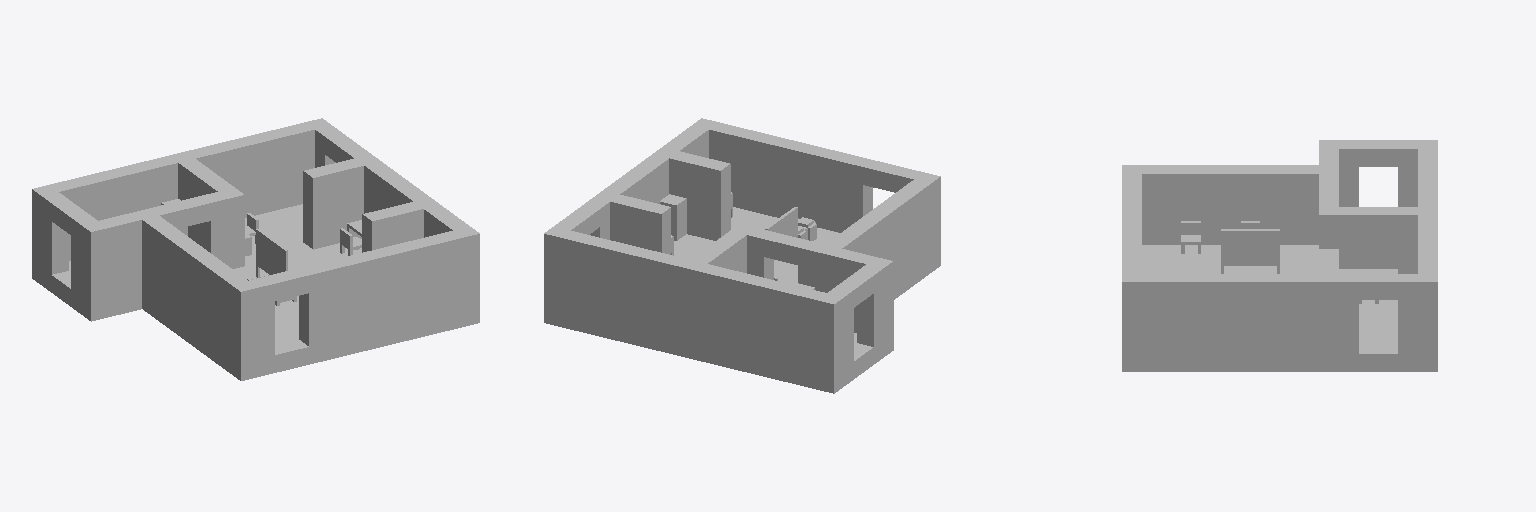
Rendered from new_small_nathan.obj.
3 views of the same model, side by side, from view 1: azimuth 30°, elevation 25°; view 2: azimuth 150°, elevation 25°; view 3: azimuth 270°, elevation 25° (orthographic).
Visible parts, largest first — view 1: object 1; view 2: object 1; view 3: object 1.
Part boxes in pixels (x1,y1,x2,y2): object 1: (32, 118, 479, 380); object 1: (544, 118, 940, 393); object 1: (1122, 140, 1437, 371).
Size of the model in its own units: 10.2 by 3 by 9.6.